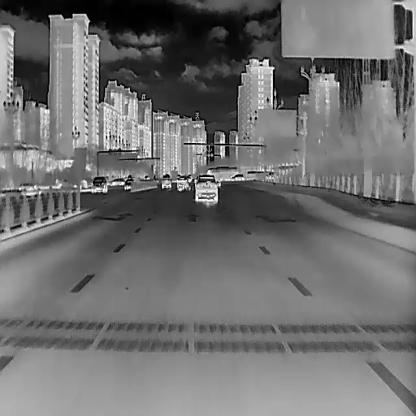bus: (206, 165, 237, 182)
car: (194, 173, 220, 204), (90, 176, 106, 193), (176, 175, 189, 189), (160, 176, 172, 190), (123, 178, 134, 190), (229, 172, 244, 180), (143, 174, 149, 179)
